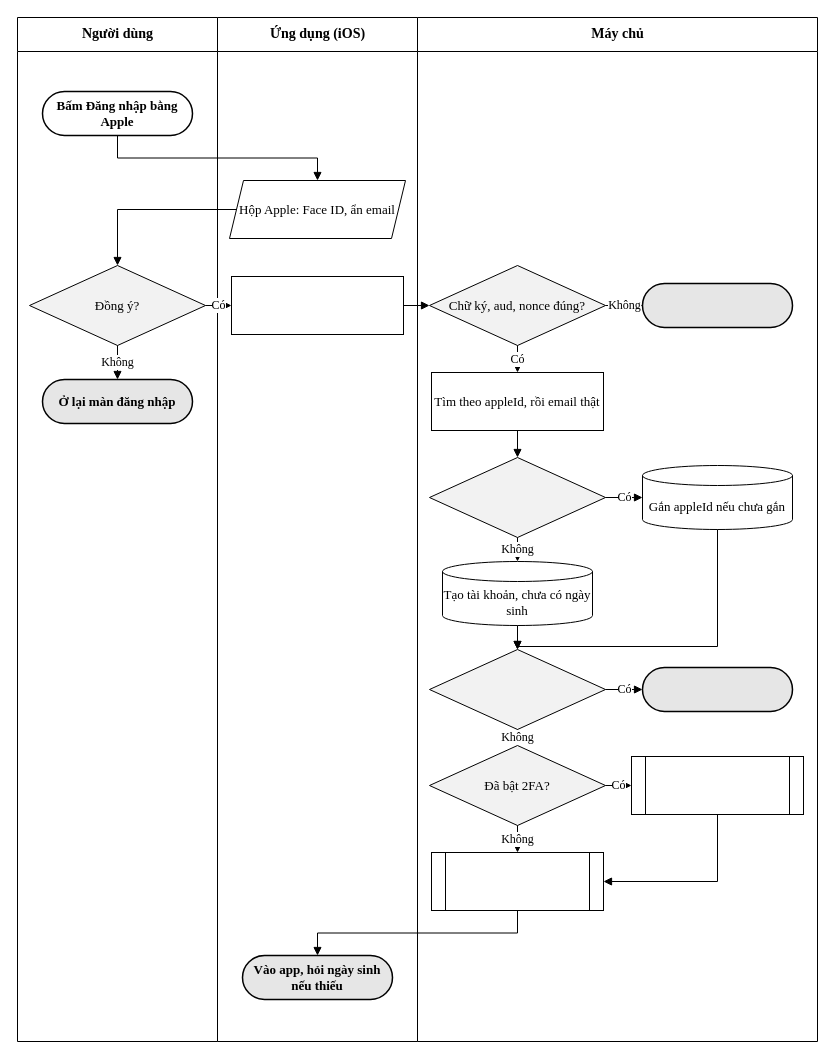
This 835x1059 diagram has some shape labels left out. Each missing label, with the centre of its shape:
"401 kèm mã lỗi" goes at point 717,689.
"401 token Apple sai" goes at point 717,305.
"Bị khóa hoặc dưới 18?" goes at point 517,689.
"Có tài khoản?" goes at point 517,497.
"Gửi token, nonce, tên lần đầu" goes at point 317,305.
"Thử thách 2FA (A1)" goes at point 717,785.
"Tạo phiên (A2), xét máy lạ (A3)" goes at point 517,881.
